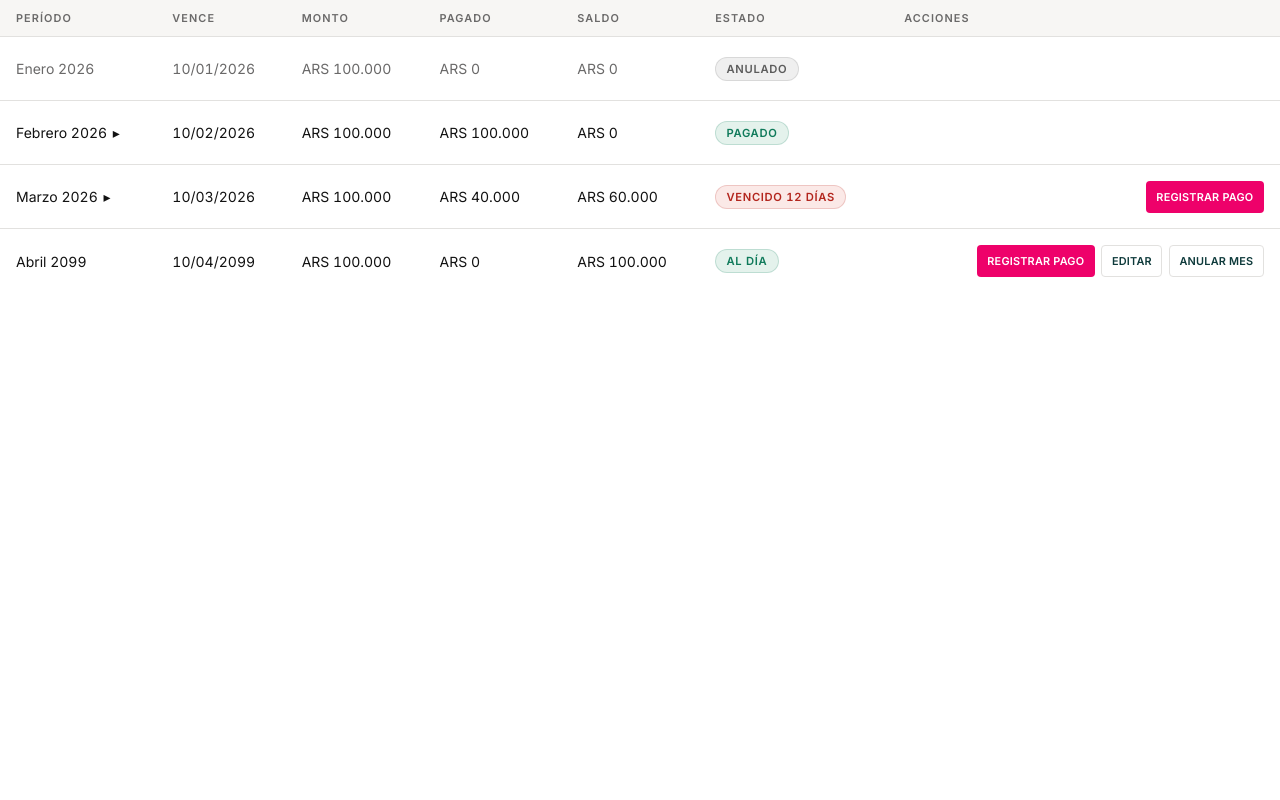
anular mes pide motivo y lo manda; el 409 se ve en el modal
Step 1. Click the button "Anular mes" → point(1216, 261), box [1169, 245, 1264, 277]
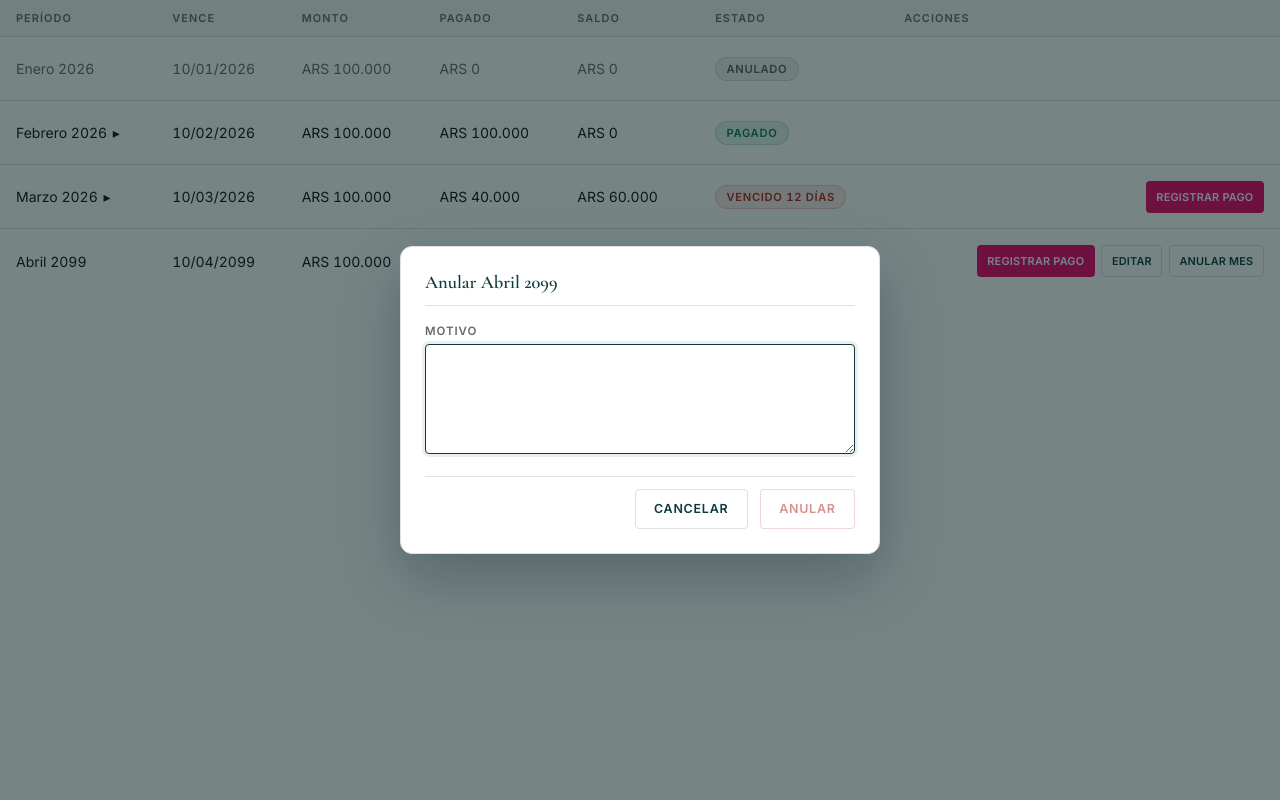
Step 2. Type "Cobrado antes del sistema" into the text box labelled "Motivo" → point(640, 399), box [425, 344, 855, 454]
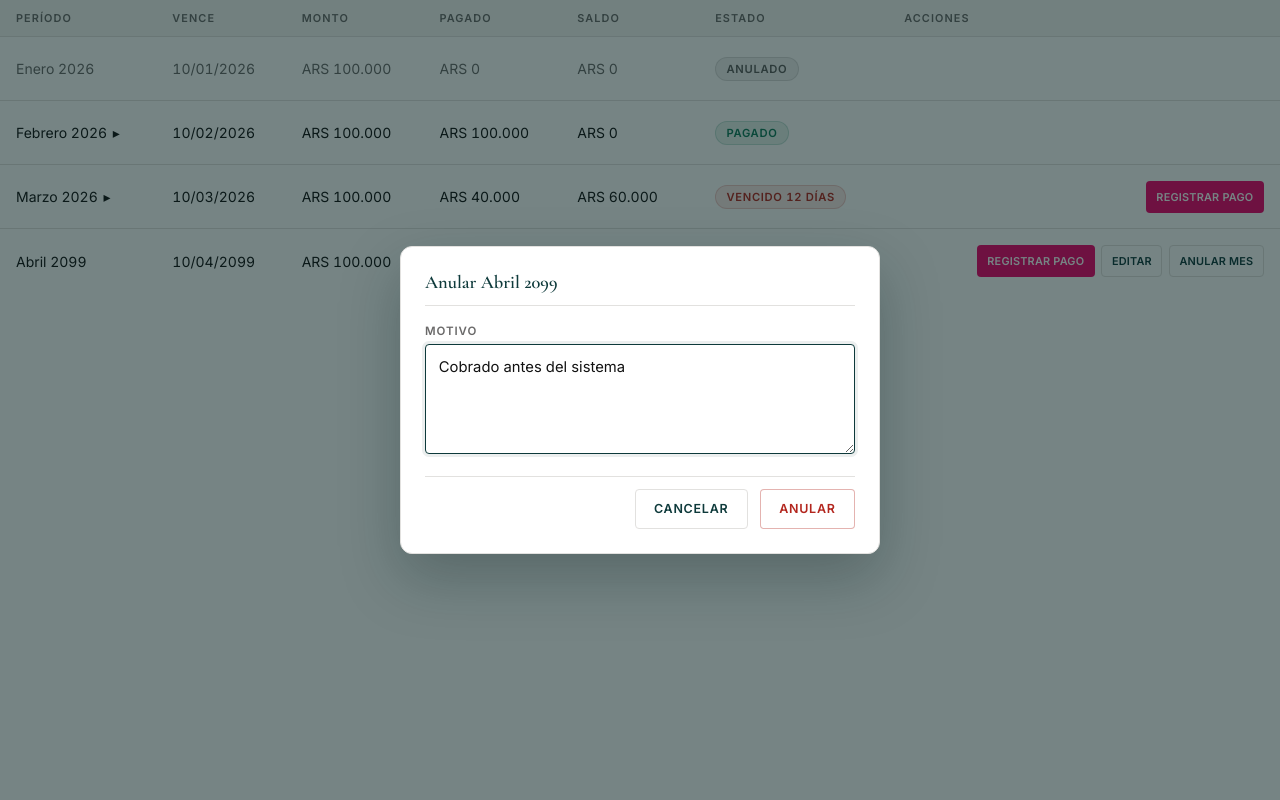
Step 3. Click the button "Anular" → point(807, 509), box [760, 489, 855, 529]
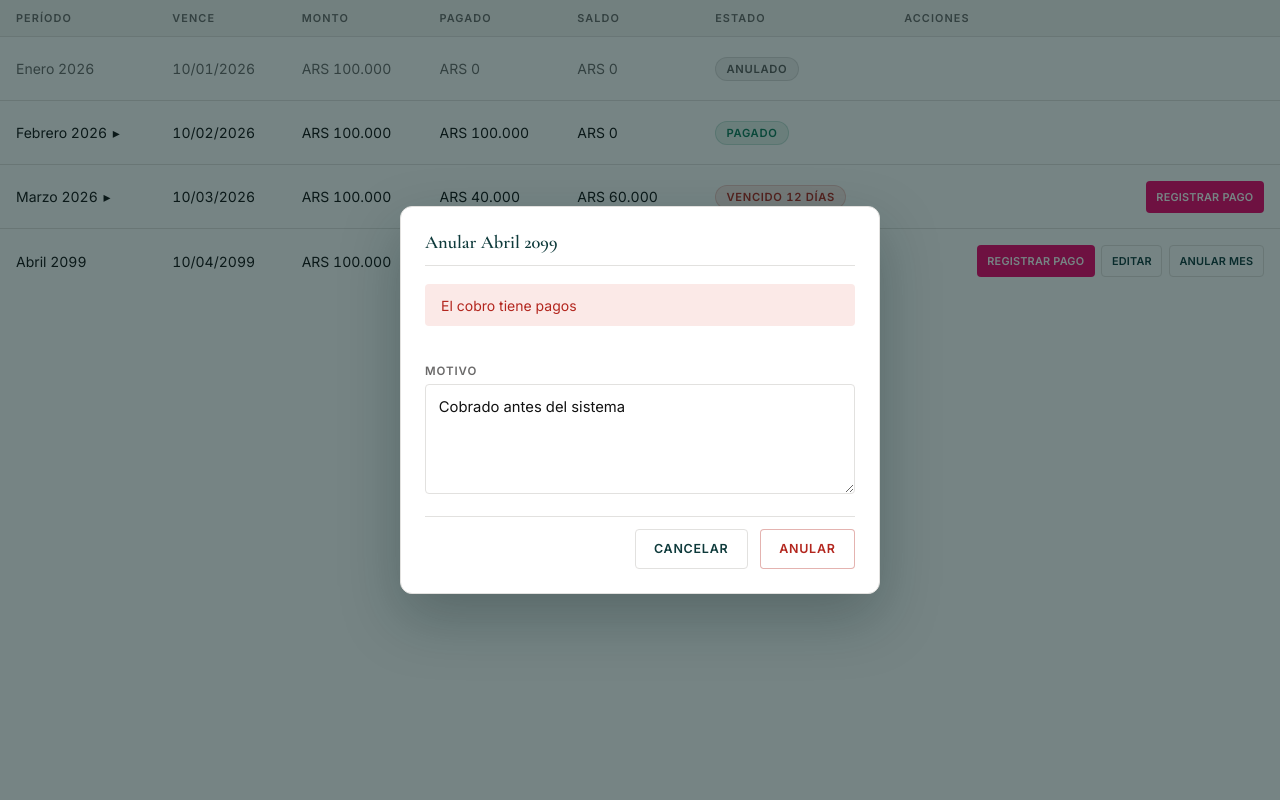
Check: the message reads "El cobro tiene pagos", box [441, 296, 576, 314]
Step 4. Click the button "Anular" → point(807, 549), box [760, 529, 855, 569]
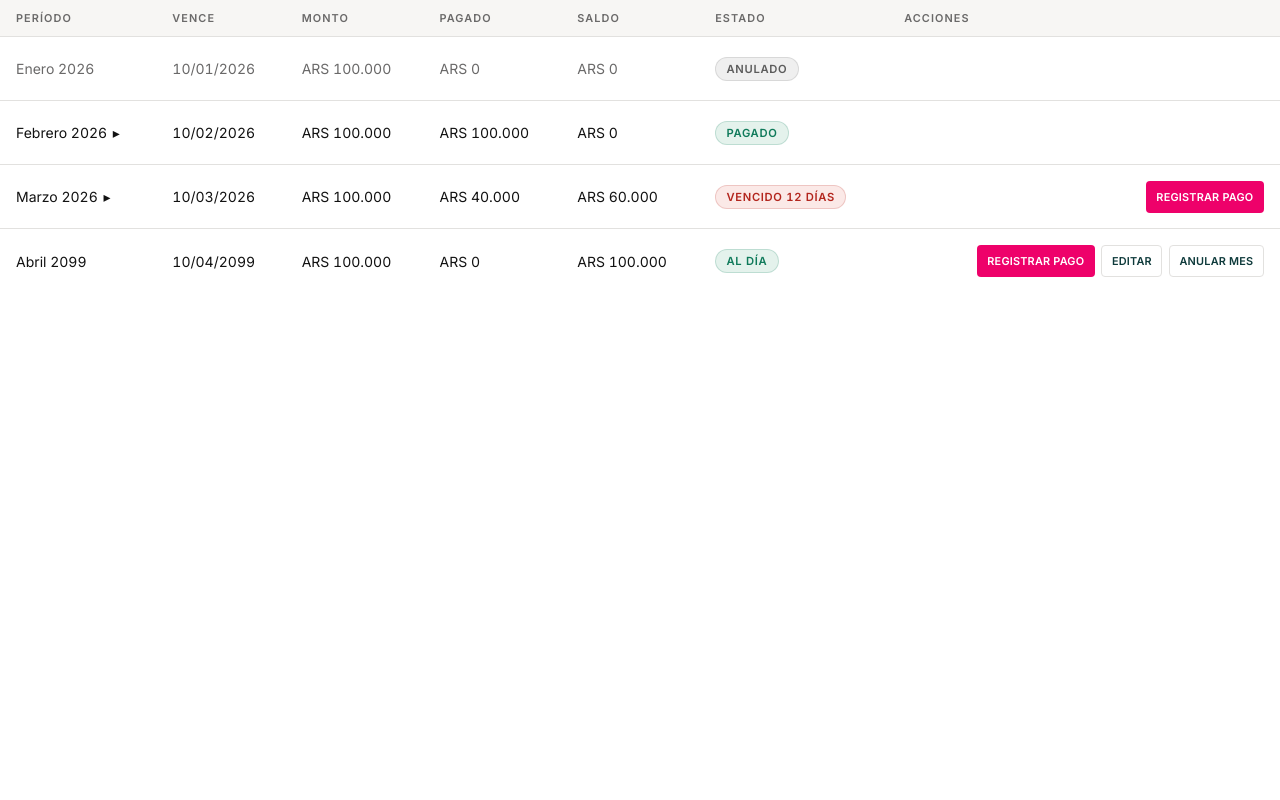
Check: the dialog is gone
